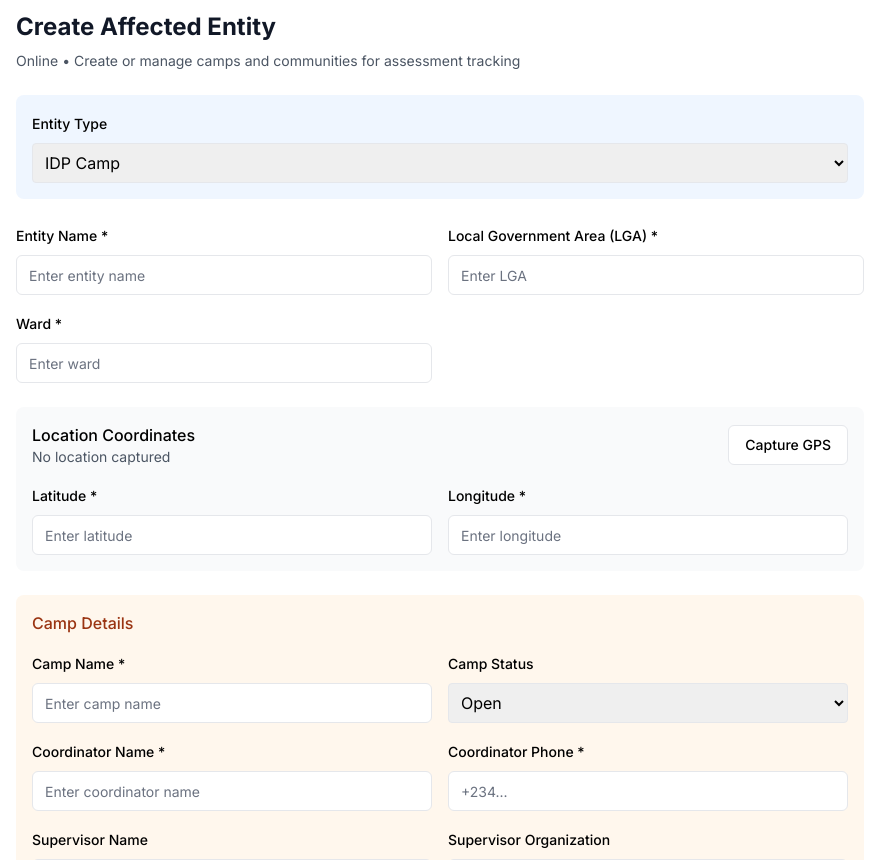
Scenario: EntityManagementForm › switches to community fields when community type is selected
This screenshot has width=881, height=860.
Select "Community" in the dropdown labelled "Entity Type" at (440, 163), box x1=32 y1=143 x2=848 y2=183
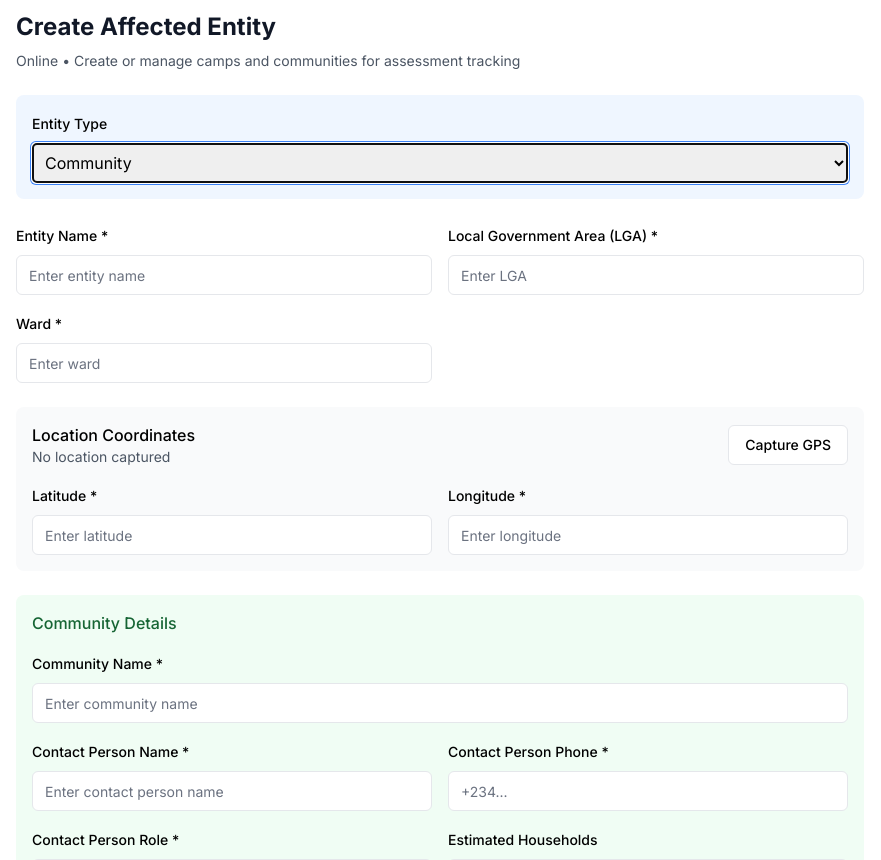
Expected: the heading "Community Details" is shown, x1=32 y1=613 x2=177 y2=633
Expected: the field labelled "Community Name *" is shown, x1=32 y1=683 x2=848 y2=723
Expected: the field labelled "Contact Person Name *" is shown, x1=32 y1=771 x2=432 y2=811
